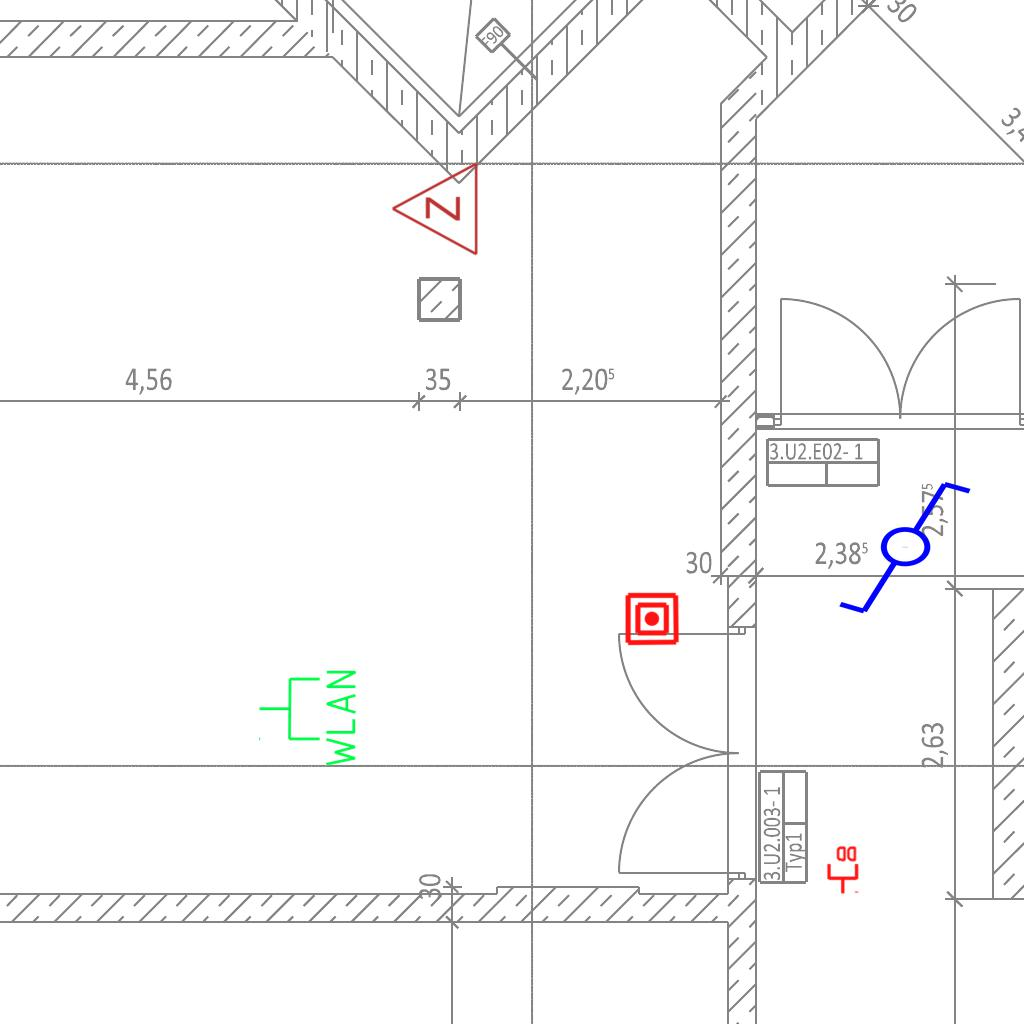Datenanschluss_zweifach: (825, 844, 859, 895)
NAM-Nichtautomatischer_Melder: (624, 591, 680, 647)
WLAN: (256, 666, 360, 771)
Wechselschalter: (835, 477, 992, 621)
Zimmersignalleuchte: (385, 161, 485, 259)
